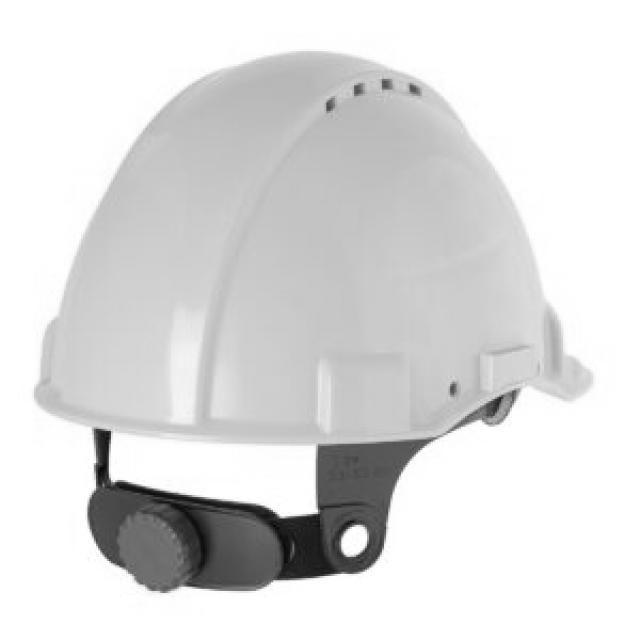safety_helmet: (32, 51, 595, 595)
